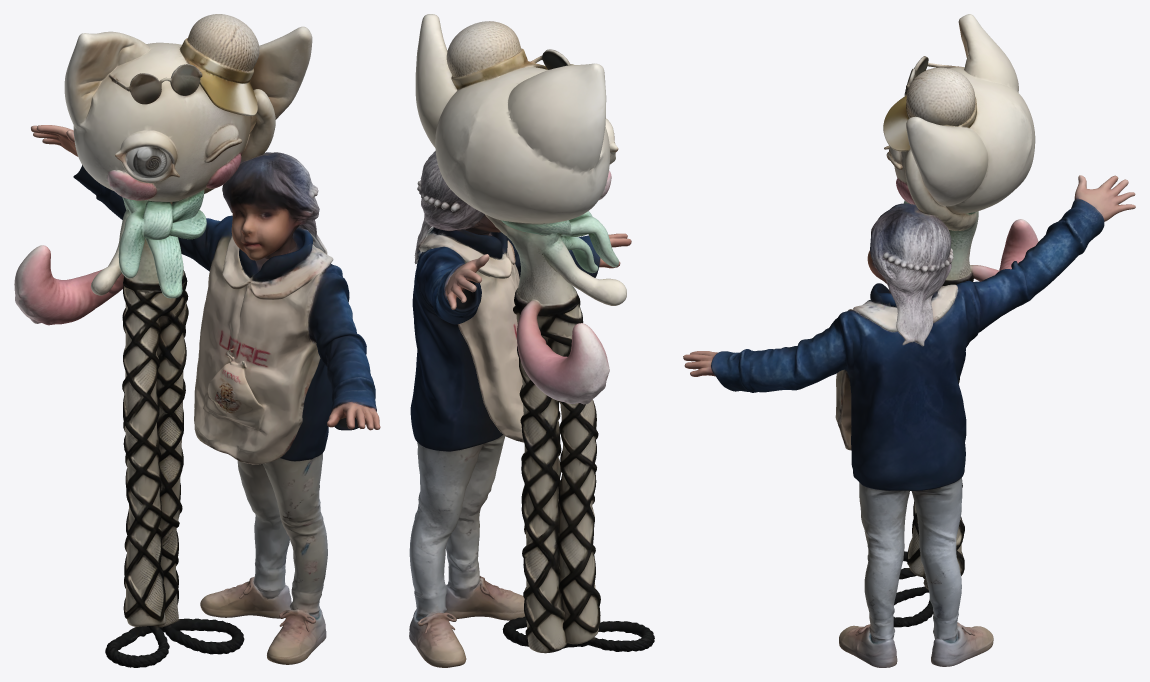
The model's file is lucrecia baja.glb.
3 views of the same model, side by side, from view 1: azimuth 30°, elevation 25°; view 2: azimuth 150°, elevation 25°; view 3: azimuth 270°, elevation 25° (orthographic). The views are drawn at different scales.
Visible parts, largest first — view 1: tripo_node_729c9643-2dea-4658-991c-9aeb83a4b6b9; view 2: tripo_node_729c9643-2dea-4658-991c-9aeb83a4b6b9; view 3: tripo_node_729c9643-2dea-4658-991c-9aeb83a4b6b9.
Part boxes in pixels (x1,y1,x2,y2): tripo_node_729c9643-2dea-4658-991c-9aeb83a4b6b9: (14,14,380,667); tripo_node_729c9643-2dea-4658-991c-9aeb83a4b6b9: (409,14,654,667); tripo_node_729c9643-2dea-4658-991c-9aeb83a4b6b9: (683,14,1135,667).
Bounding box in the file's own units: 0.4197 × 1 × 0.723.
1 material, 1 textured.
